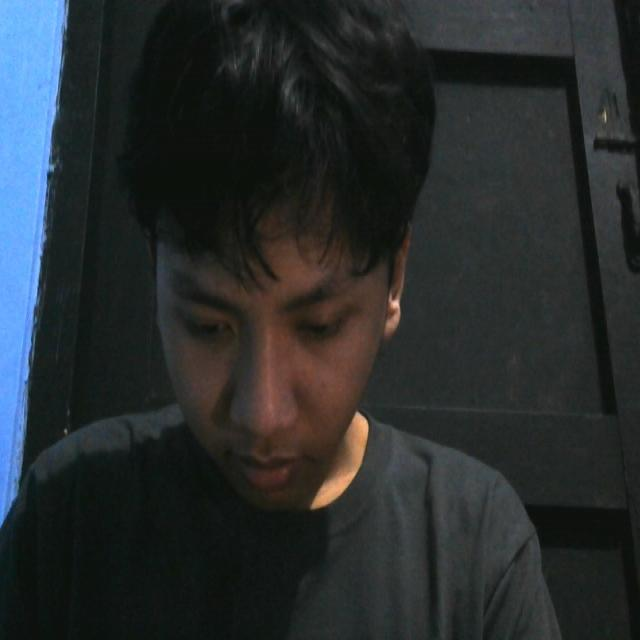9_cabeza_baja: (130, 0, 435, 509)
